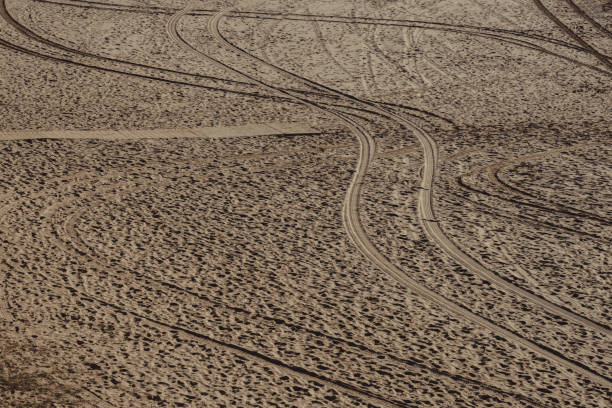vehicle_track: (327, 111, 611, 387), (235, 12, 611, 75), (532, 0, 611, 70), (565, 0, 611, 37)
